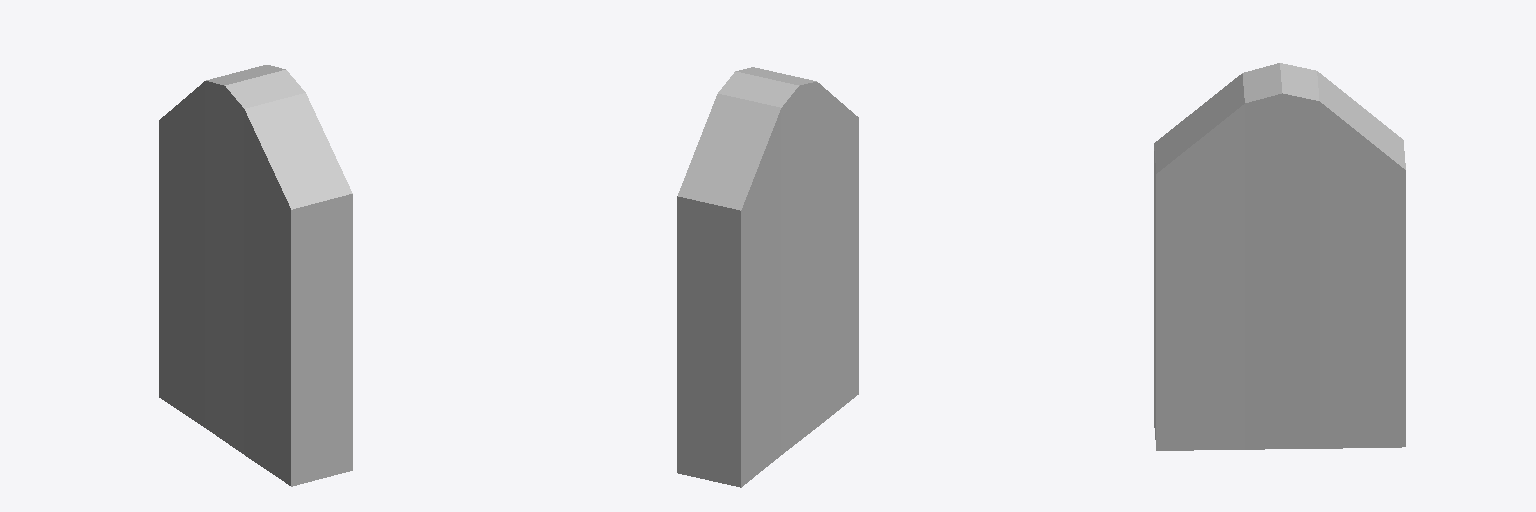
Rendered from door new.obj.
3 views of the same model, side by side, from view 1: azimuth 30°, elevation 25°; view 2: azimuth 150°, elevation 25°; view 3: azimuth 270°, elevation 25° (orthographic).
Parts seen in each view (by area): view 1: door; view 2: door; view 3: door.
Boxes of the visible parts, <box> form: door: <box>159,65,352,486</box>; door: <box>677,67,858,487</box>; door: <box>1154,63,1405,450</box>.
Size of the model in its own units: 11.93 by 57.86 by 37.15.